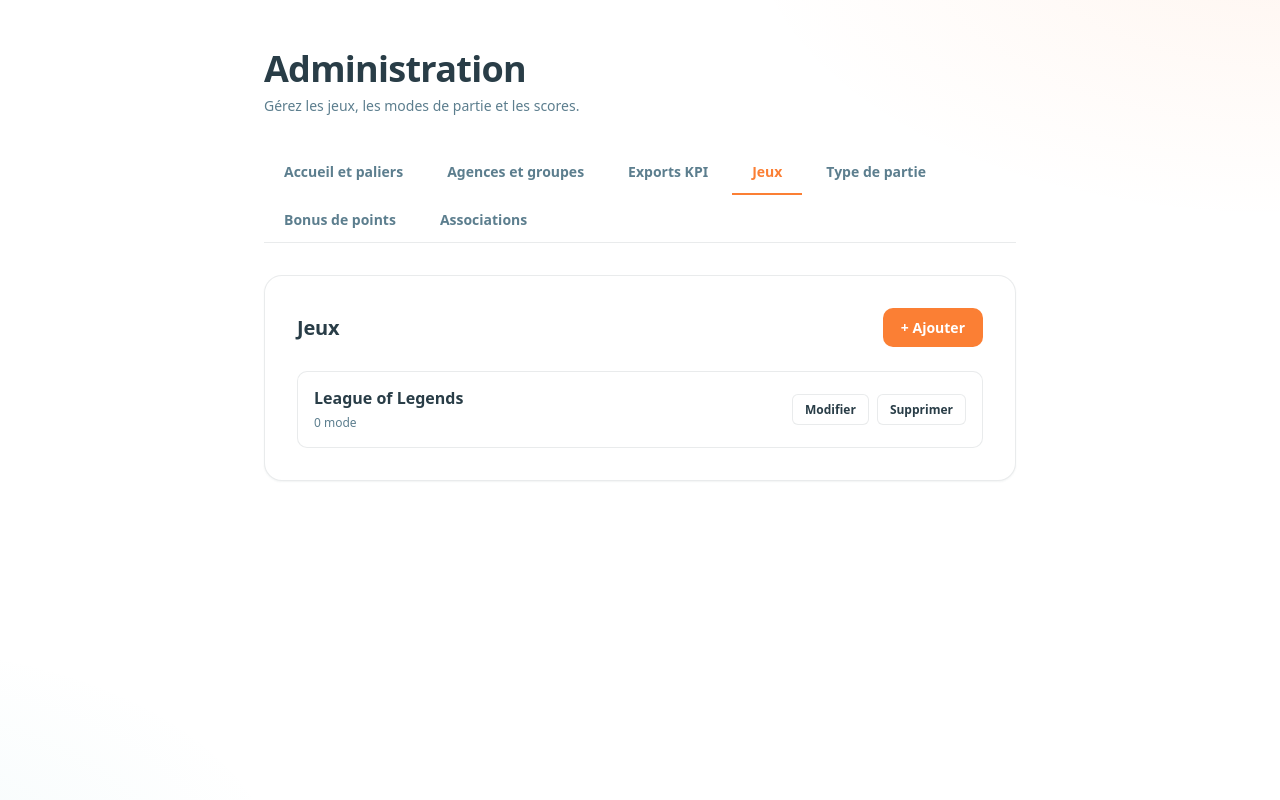
Scenario: AdminPage › switches to bonus tab
The width and height of the screenshot is (1280, 800).
What coordinates should you click on to do the following:
click the tab "Bonus de points"
I would click on:
 (340, 220)
Its box is left=264, top=198, right=416, bottom=243.
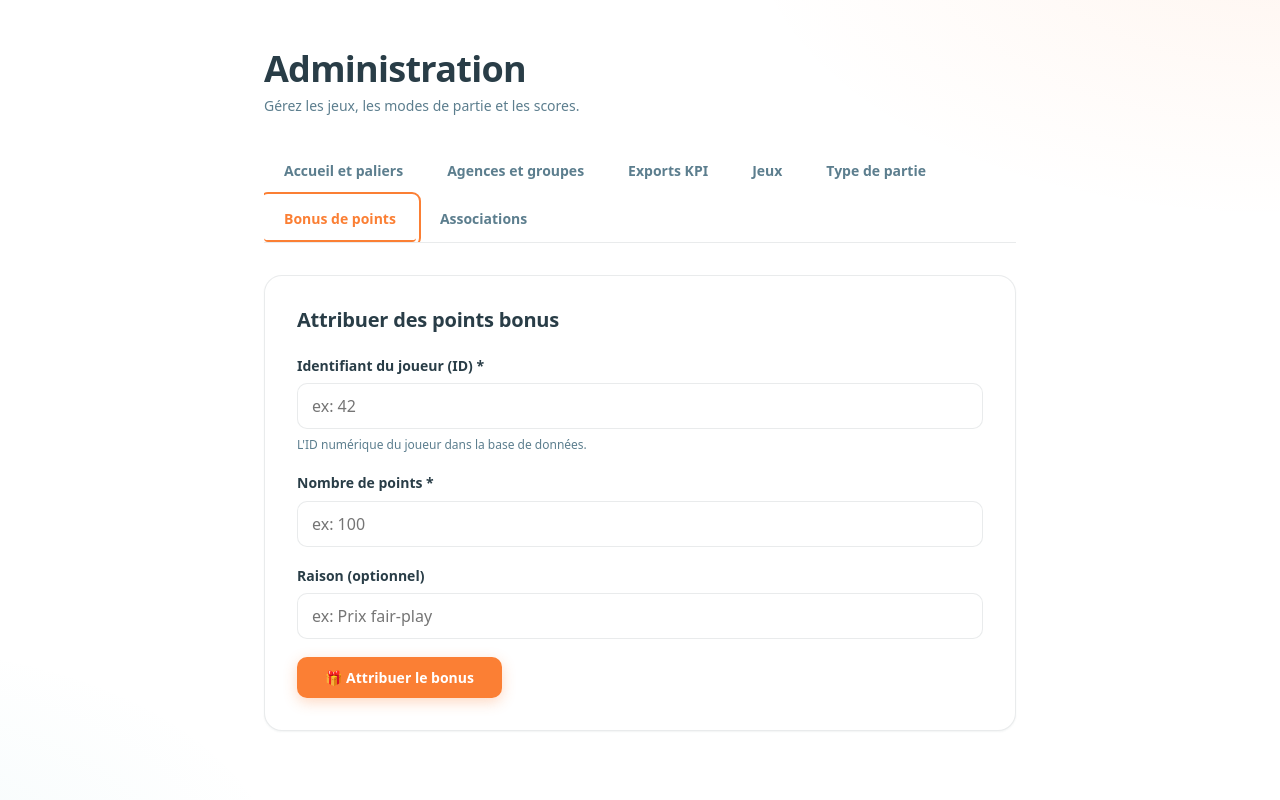
Result: the number field labelled "Identifiant du joueur (ID) *" is shown at left=297, top=383, right=983, bottom=429
